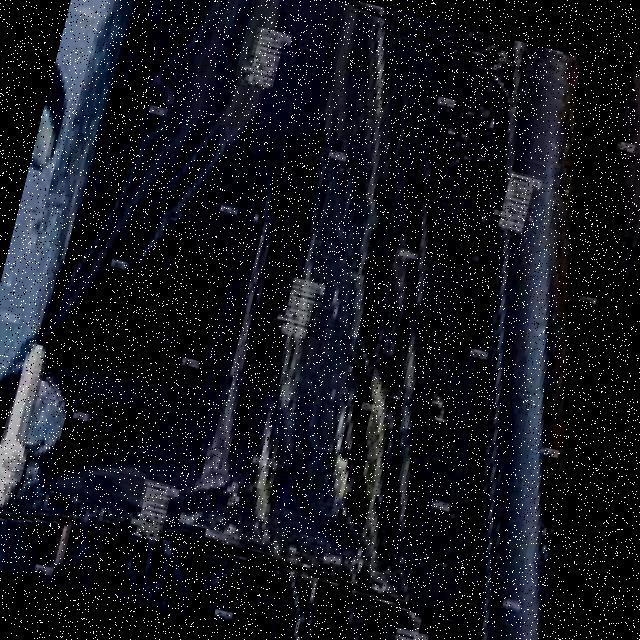Dent: (94, 190, 436, 576)
